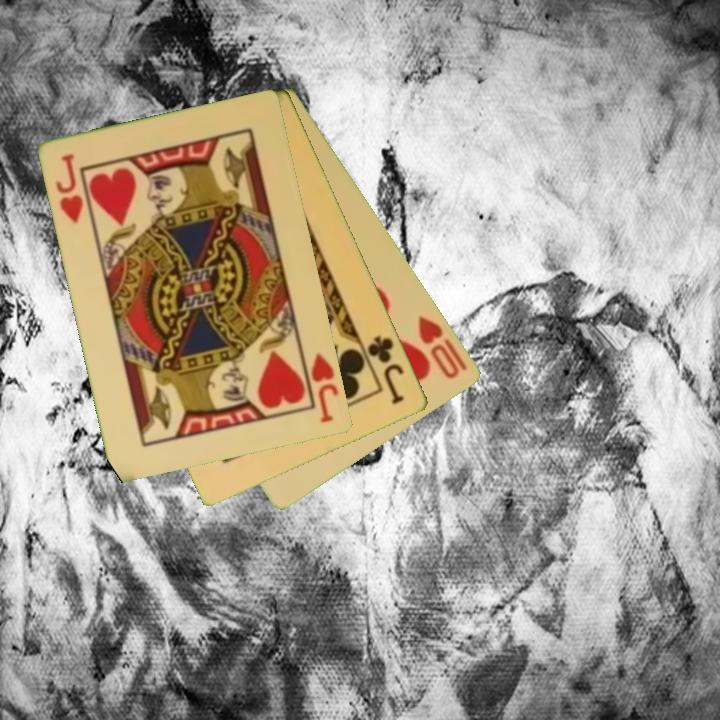10h: (415, 312, 471, 382)
Jc: (364, 332, 408, 408)
Jh: (299, 346, 342, 427), (52, 150, 87, 227)
